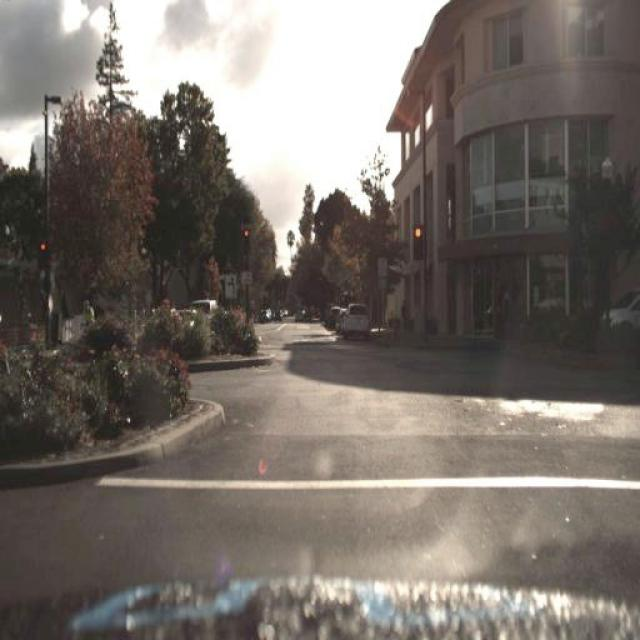semaforo: (37, 240, 49, 272), (412, 225, 423, 259)
